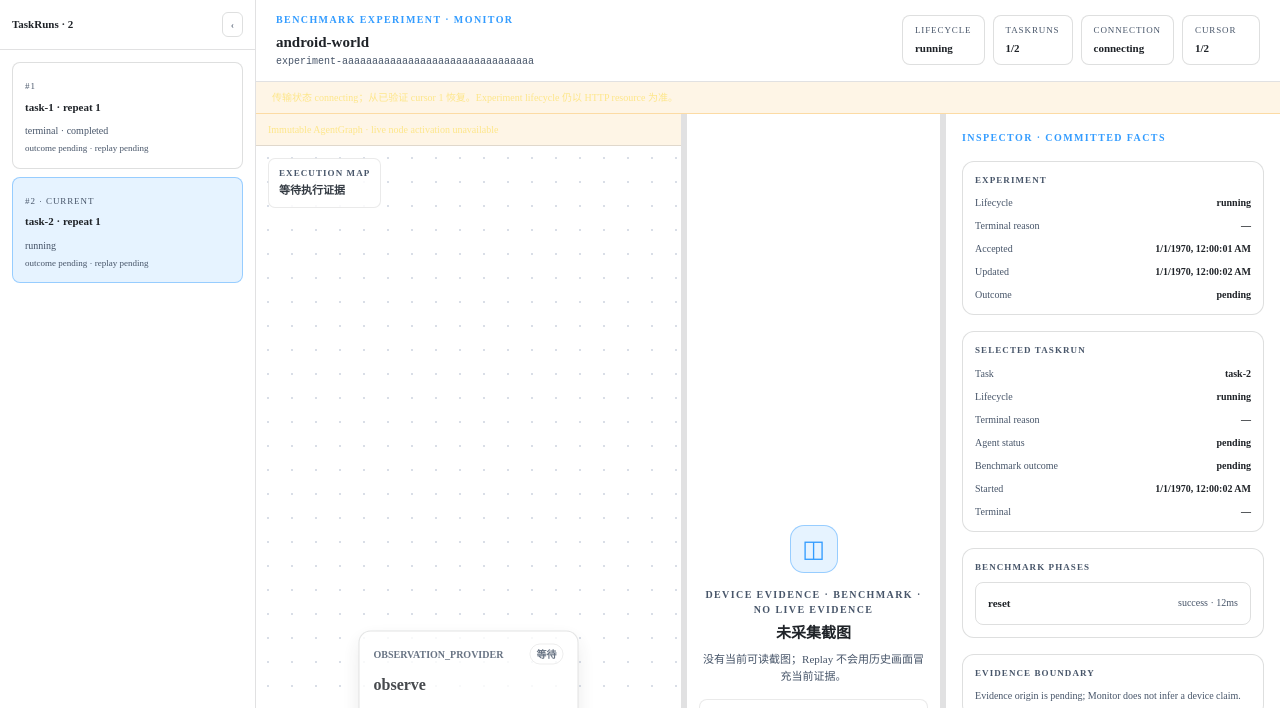
Test: ExperimentMonitorPage › reconstructs plural facts, preserves historical selection, and renders no fake live evidence
Expected: the heading "android-world" is shown, [276, 34, 369, 50]
Expected: the button "task-2" is shown, [12, 176, 243, 283]
Click the button "task-1". click: (128,115)
box: [12, 62, 243, 168]
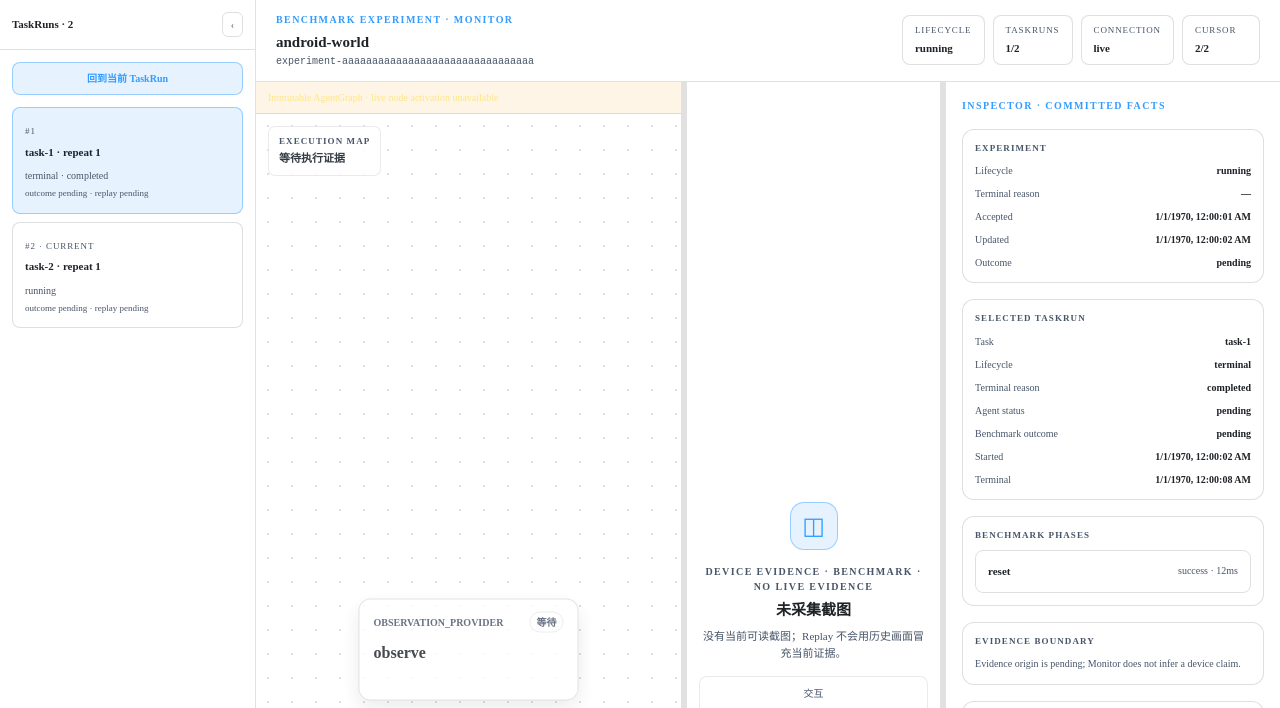
Now the button "回到当前 TaskRun" is shown, box [12, 62, 243, 95]
